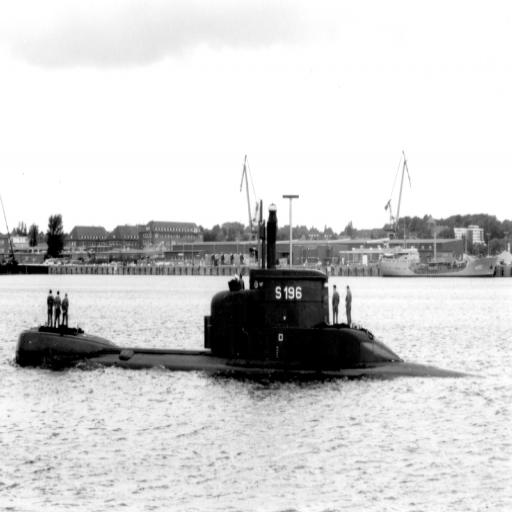submarine: (3, 196, 481, 379)
